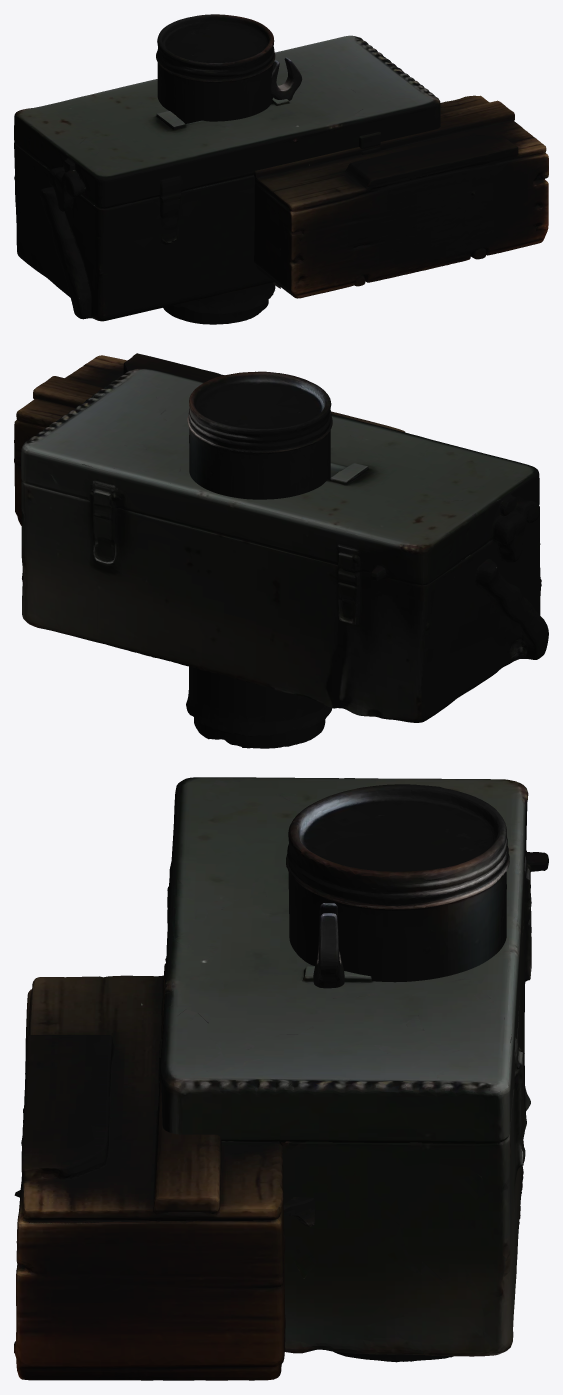
Rendered from scenegen.glb.
3 views of the same model, one above another, from view 1: azimuth 30°, elevation 25°; view 2: azimuth 150°, elevation 25°; view 3: azimuth 270°, elevation 25° (orthographic). The views are drawn at different scales.
Parts seen in each view (by area): view 1: geometry_4, geometry_3, geometry_5, geometry_0; view 2: geometry_4, geometry_5, geometry_3; view 3: geometry_4, geometry_3, geometry_5, geometry_0, geometry_2.
Part boxes in pixels (bbox=[...]): geometry_4: bbox=[14, 35, 440, 321]; geometry_3: bbox=[253, 95, 548, 298]; geometry_5: bbox=[156, 14, 275, 324]; geometry_0: bbox=[271, 57, 302, 288]; geometry_4: bbox=[21, 368, 548, 722]; geometry_5: bbox=[186, 371, 332, 748]; geometry_3: bbox=[14, 353, 405, 526]; geometry_4: bbox=[158, 777, 548, 1356]; geometry_3: bbox=[14, 963, 285, 1380]; geometry_5: bbox=[286, 784, 509, 1362]; geometry_0: bbox=[313, 903, 344, 988]; geometry_2: bbox=[283, 1197, 315, 1226].
Bounding box in the file's own units: 1.96 × 1.17 × 1.15.
Materials: 6 (6 with a texture image).
